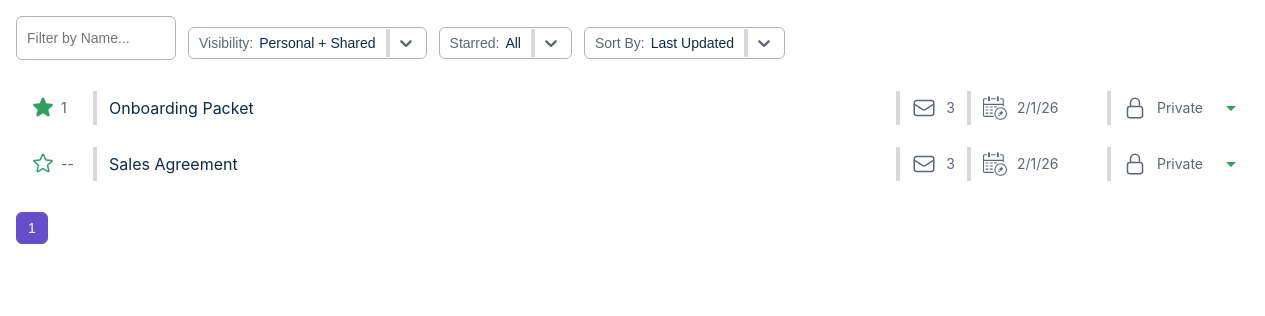
Test case: VerdocsTemplatesList › offers Sign Now as a disabled menu item
The image size is (1265, 316).
Expected: the text "Onboarding Packet" is shown, [109, 98, 254, 118]
Click the button named "Open menu" in the row of "Onboarding Packet".
click(1231, 108)  # box [1215, 92, 1247, 124]
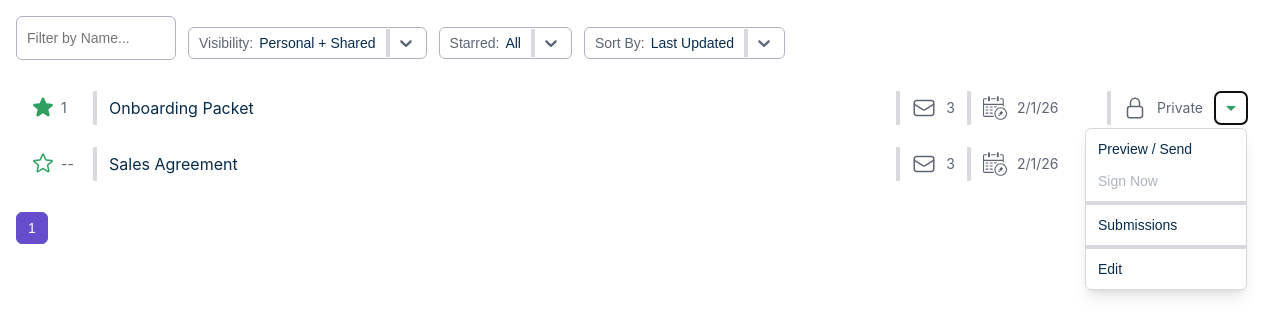
Result: the menu item "Sign Now" is disabled at [1086, 165, 1246, 197]
